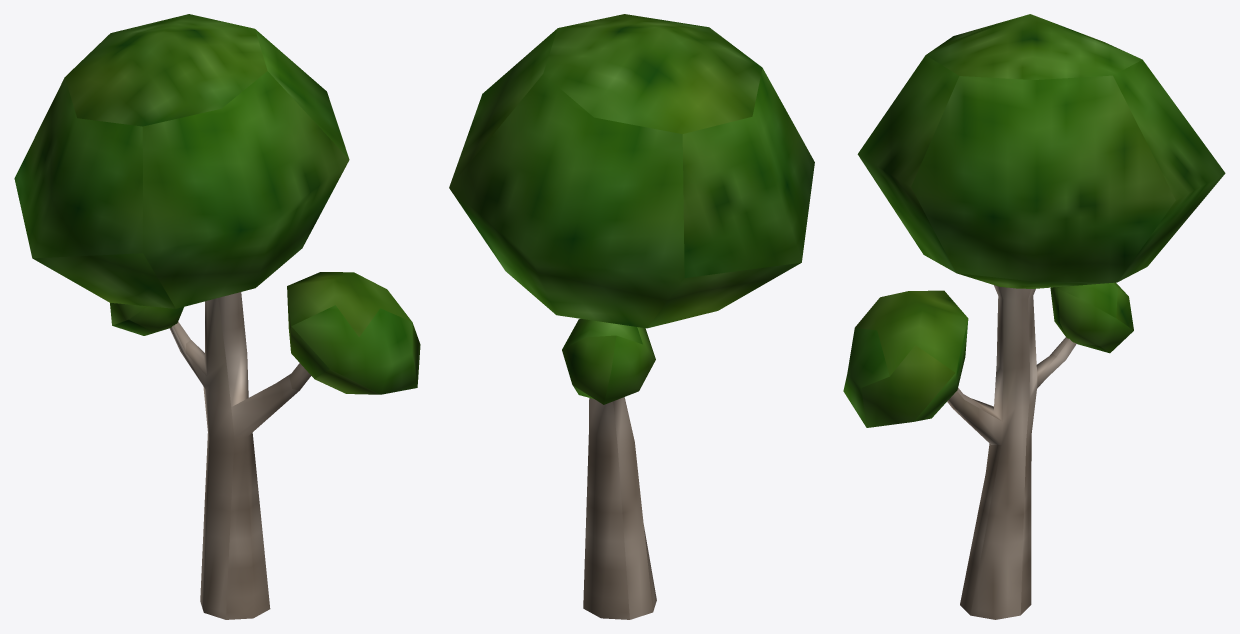
Rendered from Tree.fbx.
3 views of the same model, side by side, from view 1: azimuth 30°, elevation 25°; view 2: azimuth 150°, elevation 25°; view 3: azimuth 270°, elevation 25° (orthographic). The views are drawn at different scales.
Visible parts, largest first — view 1: Cylinder.003; view 2: Cylinder.003; view 3: Cylinder.003.
Part boxes in pixels (<box>): Cylinder.003: <box>14,14,420,619</box>; Cylinder.003: <box>449,14,814,619</box>; Cylinder.003: <box>843,14,1225,619</box>.
Size of the model in its own units: 100 by 166 by 102.
